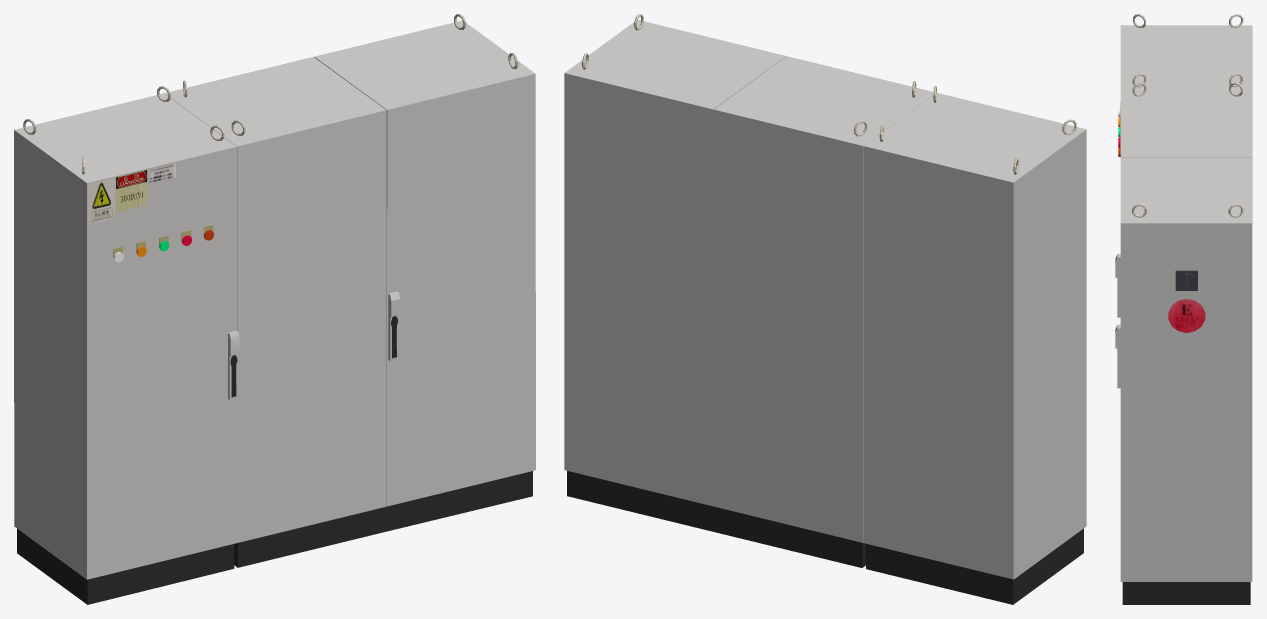
The model's file is gongdian_2.FBX.
3 renders of one model, left to right at view 1: azimuth 30°, elevation 25°; view 2: azimuth 150°, elevation 25°; view 3: azimuth 270°, elevation 25°, orthographic. The views are drawn at different scales.
Parts seen in each view (by area): view 1: YF_Model_gongdian_2, YF_Model_gongdian_2_1; view 2: YF_Model_gongdian_2, YF_Model_gongdian_2_1; view 3: YF_Model_gongdian_2, YF_Model_gongdian_2_1.
Boxes of the visible parts, box(x1,y1,x2,y2) form: YF_Model_gongdian_2: box(164, 14, 535, 567); YF_Model_gongdian_2_1: box(14, 86, 239, 604); YF_Model_gongdian_2: box(564, 14, 933, 567); YF_Model_gongdian_2_1: box(863, 86, 1086, 604); YF_Model_gongdian_2: box(1115, 82, 1252, 604); YF_Model_gongdian_2_1: box(1115, 14, 1252, 317).
Size of the model in its own units: 272 by 249 by 77.94.
1 material, 1 textured.
